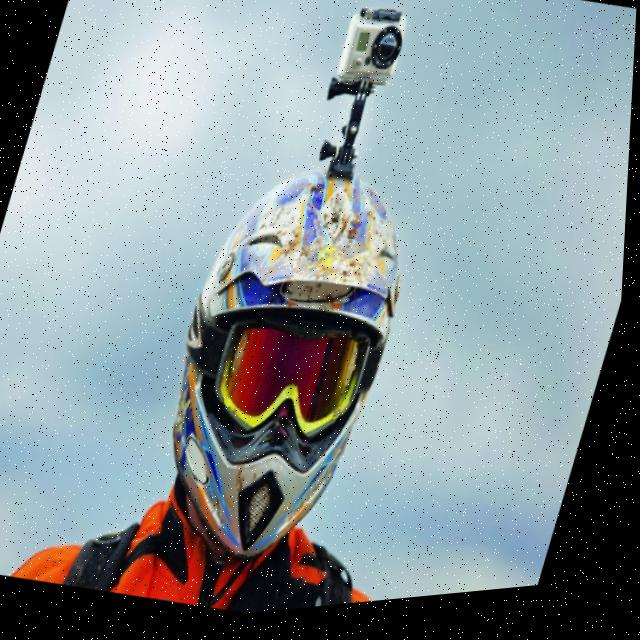helmet: (116, 0, 495, 607)
